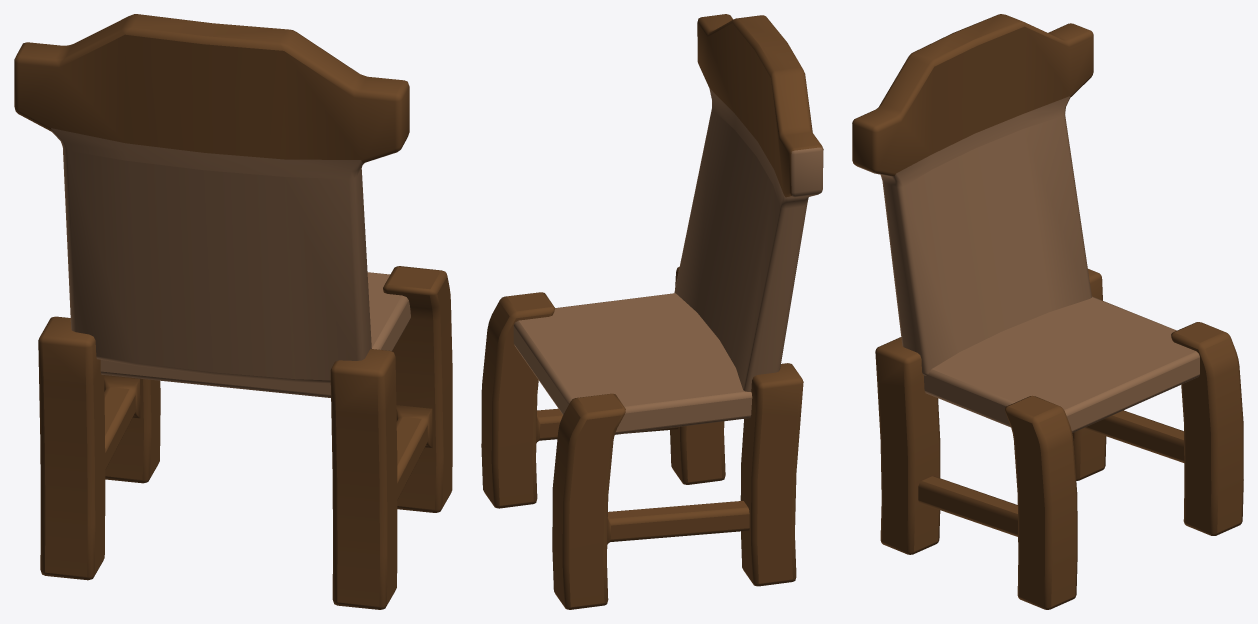
The model's file is market-chair.fbx.
The picture shows the model from 3 angles, left to right: view 1: azimuth 30°, elevation 25°; view 2: azimuth 150°, elevation 25°; view 3: azimuth 270°, elevation 25°; orthographic projection. The views are drawn at different scales.
Parts seen in each view (by area): view 1: Plane.071; view 2: Plane.071; view 3: Plane.071.
Boxes of the visible parts, box(x1,y1,x2,y2) form: Plane.071: box(14, 14, 452, 609); Plane.071: box(481, 14, 823, 609); Plane.071: box(852, 14, 1243, 609).
Bounding box in the file's own units: 145 × 188 × 145.
